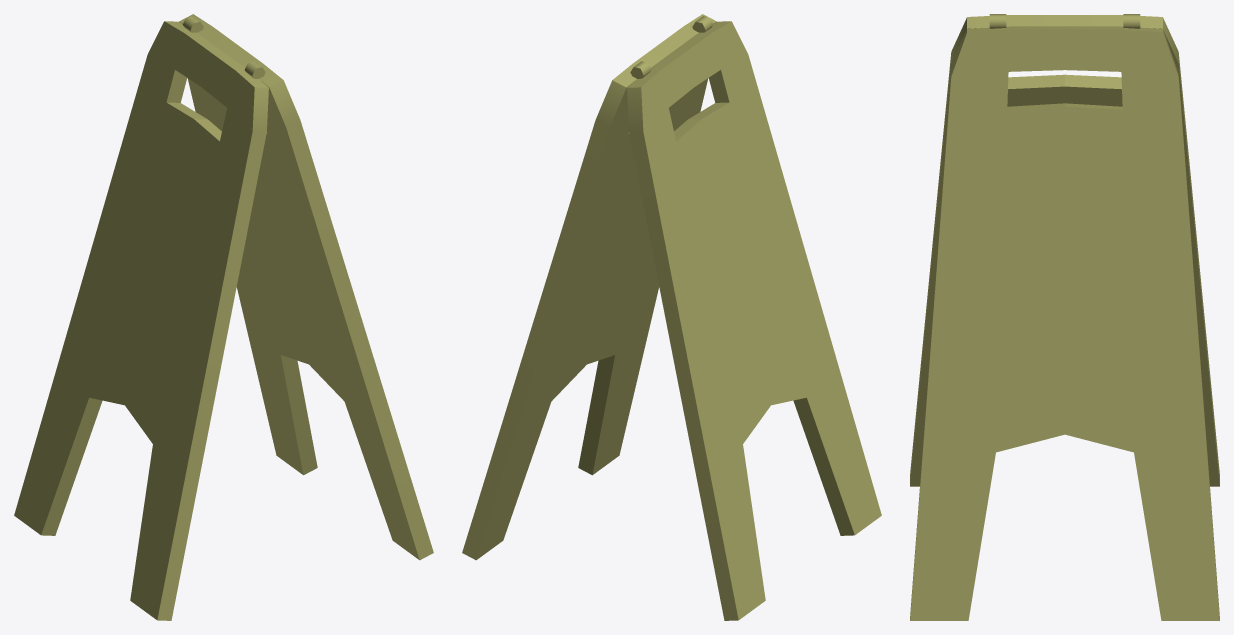
The model's file is CratelPisoMojado.fbx.
3 renders of one model, left to right at view 1: azimuth 30°, elevation 25°; view 2: azimuth 150°, elevation 25°; view 3: azimuth 270°, elevation 25°, orthographic. The views are drawn at different scales.
Parts seen in each view (by area): view 1: CratelPisoMojado; view 2: CratelPisoMojado; view 3: CratelPisoMojado.
Boxes of the visible parts, x1,y1,x2,y2 form: CratelPisoMojado: [14, 14, 433, 620]; CratelPisoMojado: [462, 14, 881, 620]; CratelPisoMojado: [910, 14, 1219, 620].
Bounding box in the file's own units: 0.3569 × 0.6113 × 0.32.
